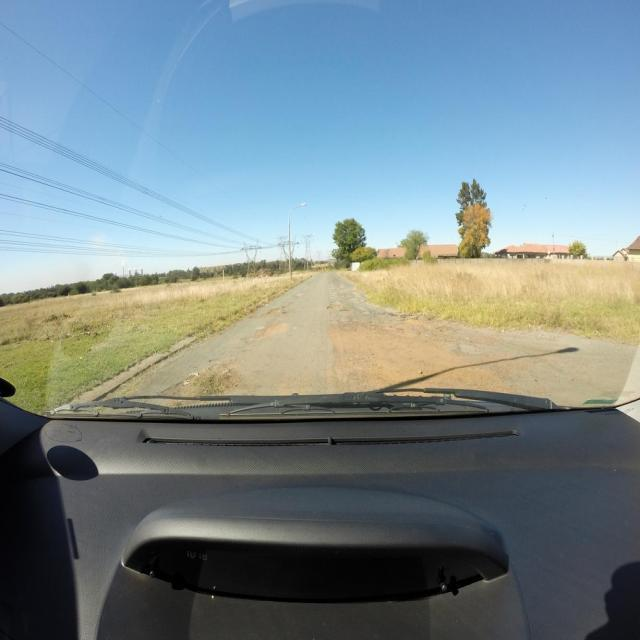pothole: (326, 304, 354, 313), (263, 309, 284, 318), (249, 315, 262, 318)
